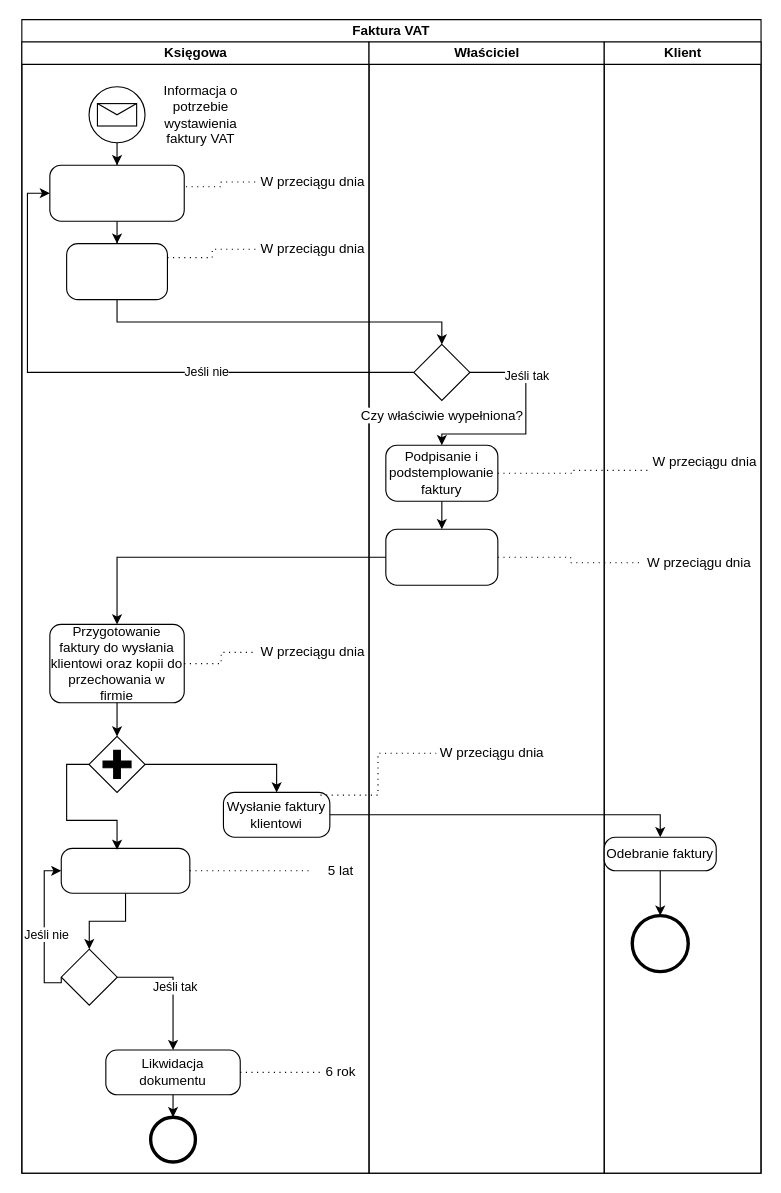
Some shapes in this 781 by 1193 pixel diagram are drawn without their labels. Here are the shapes that lost their labels. From the top down, the centre of each, then its label:
At point (116, 192): "Wystawienie faktury przy użyciu programu EWA".
At point (116, 271): "Przekazanie dokumentu do właściciela".
At point (441, 556): "Przekazanie faktury do księgowej".
At point (125, 870): "Przechowywanie dokumentu w firmie".
At point (88, 976): "Czy minęło 5 lat?".
